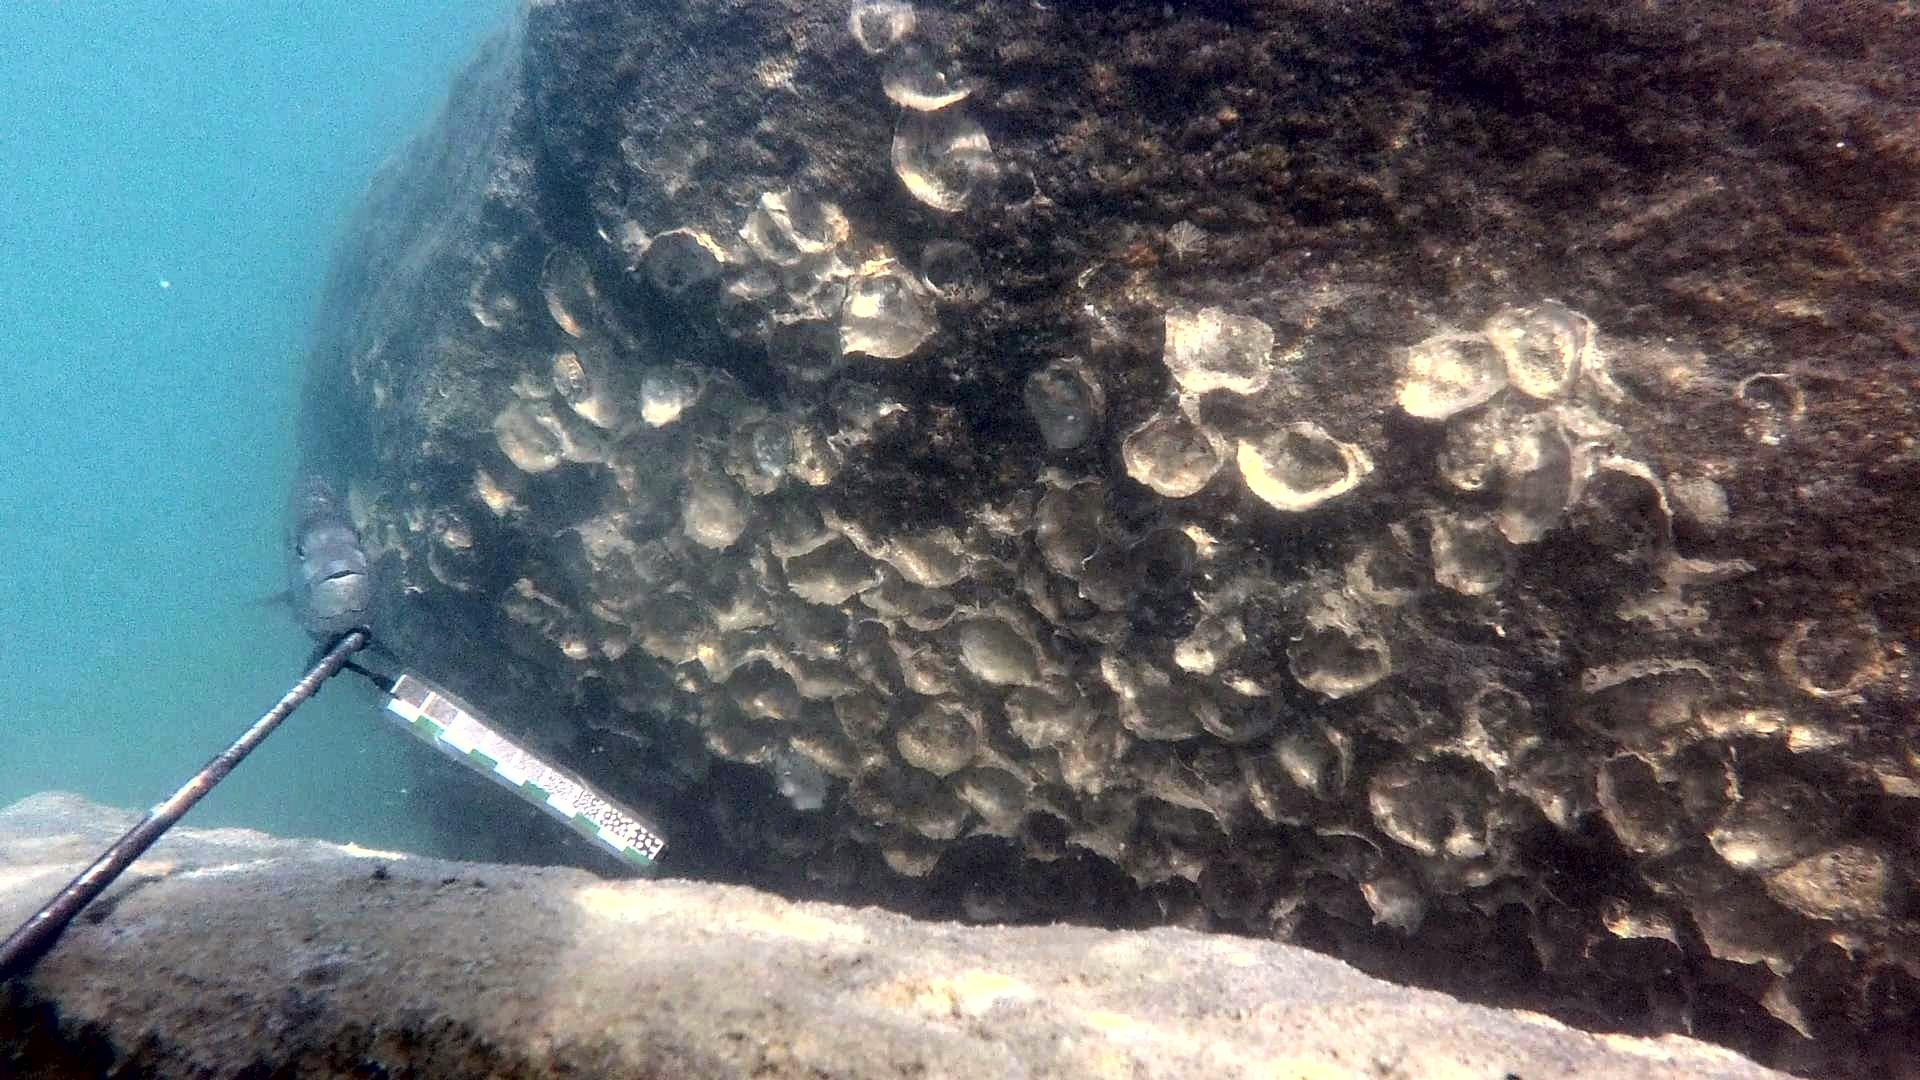acanthopagrus palmaris: (231, 456, 425, 688)
